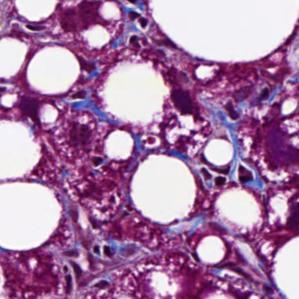inflammation: (57, 248, 96, 293), (85, 229, 134, 261), (17, 92, 62, 125)
